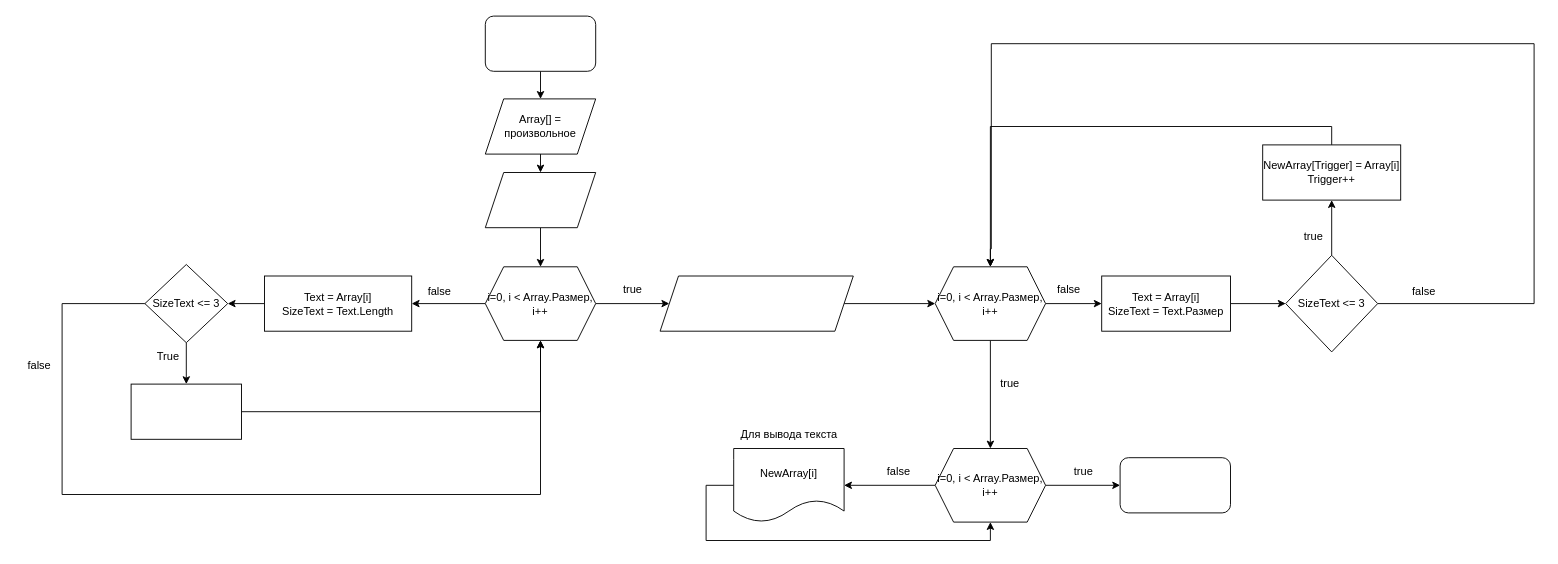
Some shapes in this 1558 by 564 pixel diagram are drawn without their labels. Here are the shapes that lost their labels. From the top down, the box of each, then its label:
(484, 15, 596, 71): start
(484, 172, 596, 228): SizeArray = 0 SizeText = 0
(659, 275, 853, 331): NewArray[] = размер[SizeArray] Trigger = 0
(130, 383, 242, 439): SizeArray++
(1119, 457, 1230, 513): Stop
